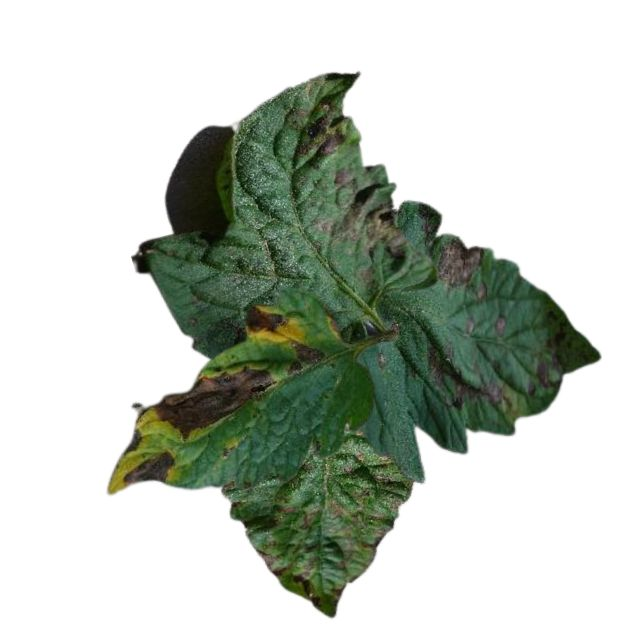Early_blight: (152, 362, 275, 442), (324, 167, 409, 254), (422, 338, 515, 413), (292, 103, 348, 159), (436, 234, 484, 288), (123, 450, 176, 488), (243, 300, 282, 342), (292, 558, 322, 608), (285, 340, 324, 376), (524, 361, 555, 398), (254, 549, 292, 576), (125, 428, 142, 454)
